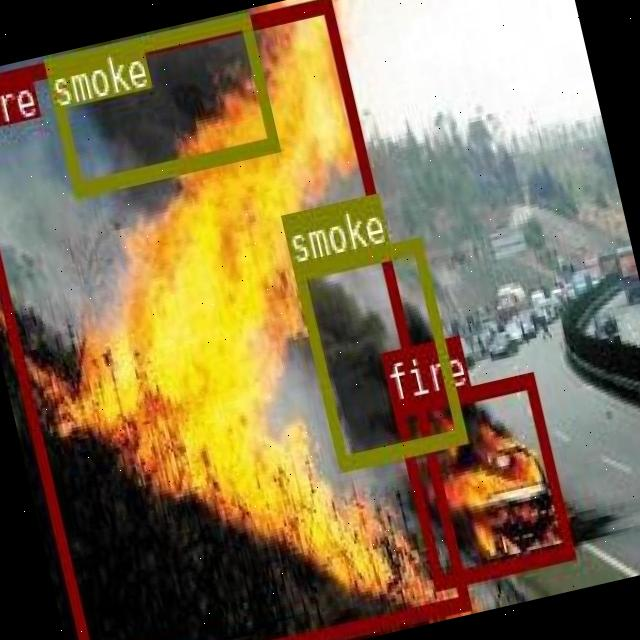fire: (0, 0, 468, 640), (390, 370, 572, 586)
smoke: (42, 10, 276, 193), (292, 234, 464, 469)
